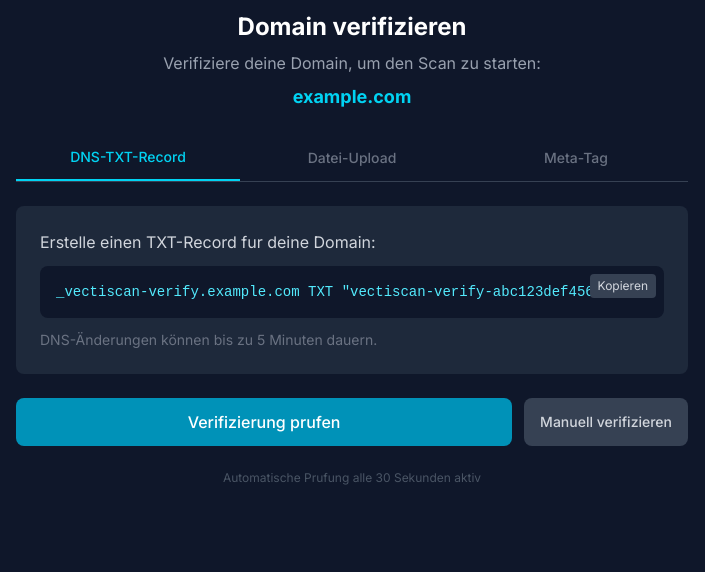
Test: VerifyPage › should show error on verification failure
Click the button with test id "check-button": (264,422) [16, 398, 512, 446]
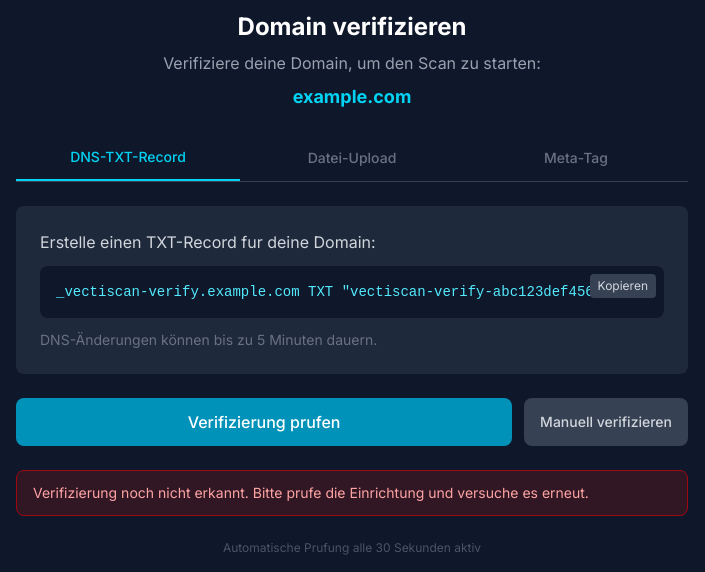
Result: the text with test id "error-message" is shown at [16, 470, 688, 516]
